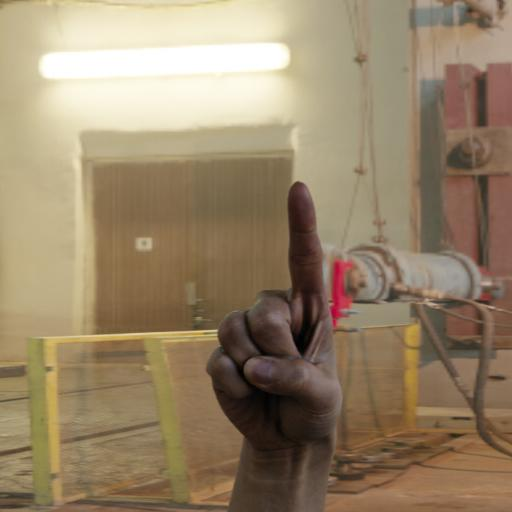Z: (188, 174, 359, 453)
